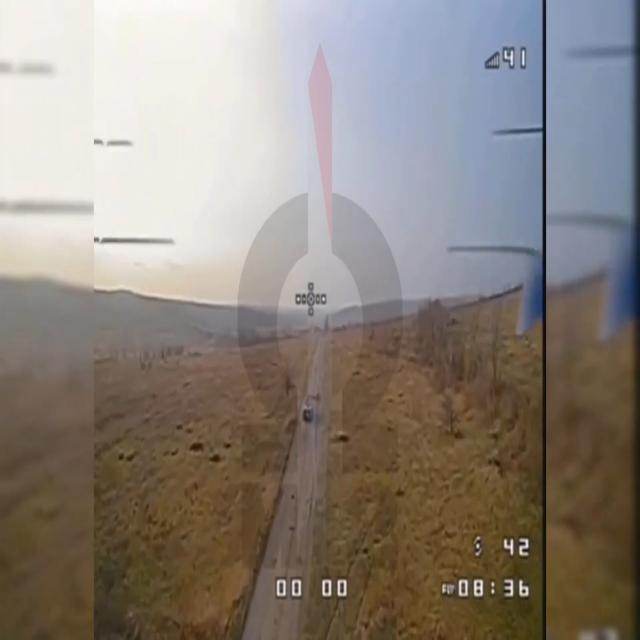apc: (303, 402, 313, 423)
